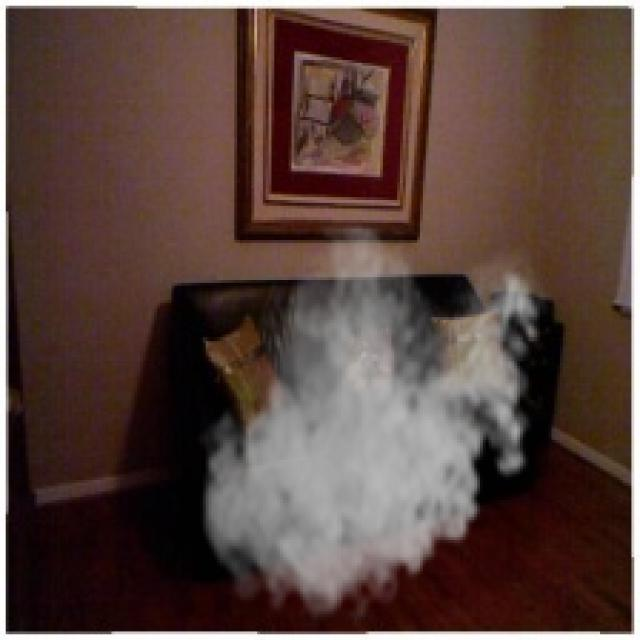smoke: (194, 223, 552, 631)
